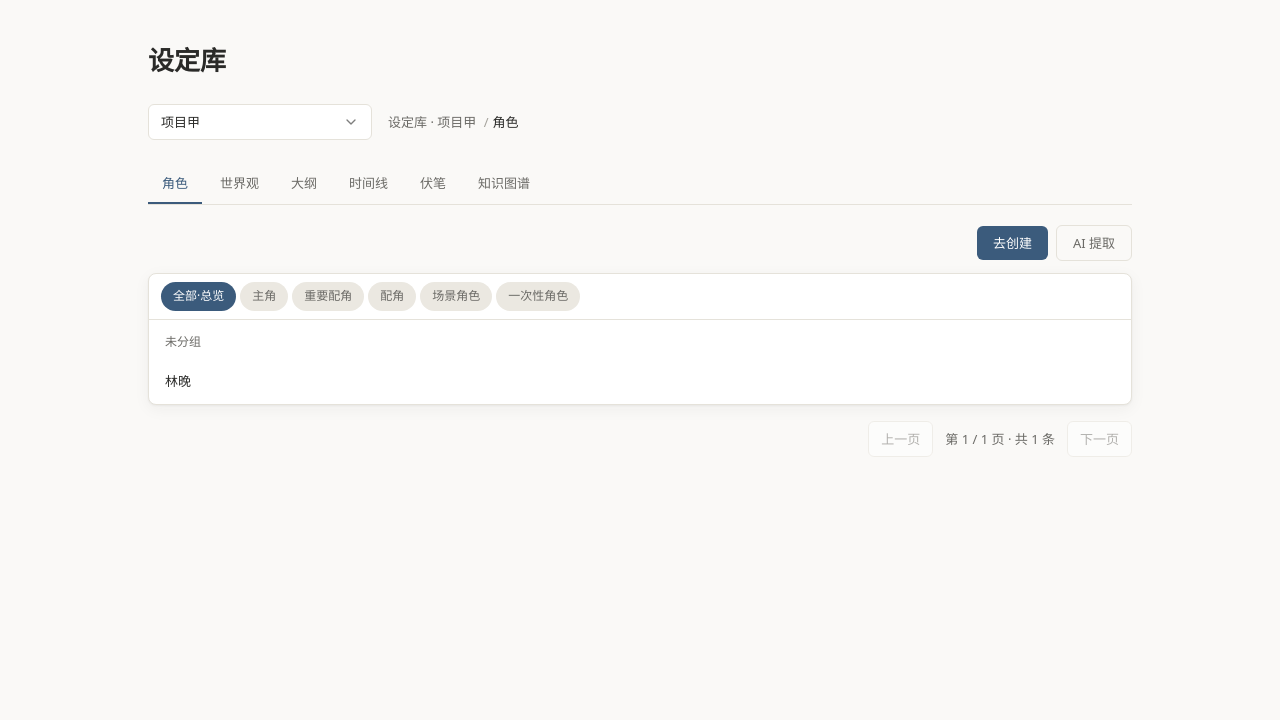
设定库页 — 「AI 提取」入口（#652） › 契约2：点击「AI 提取」→ 打开 AIExtractDialog（拉取章节列表）
Expected: the element with test id "library-list" is shown, [148,273,1132,405]
Click the button with test id "extract-entry-lib" at [1094, 243], box [1056,225,1132,261]
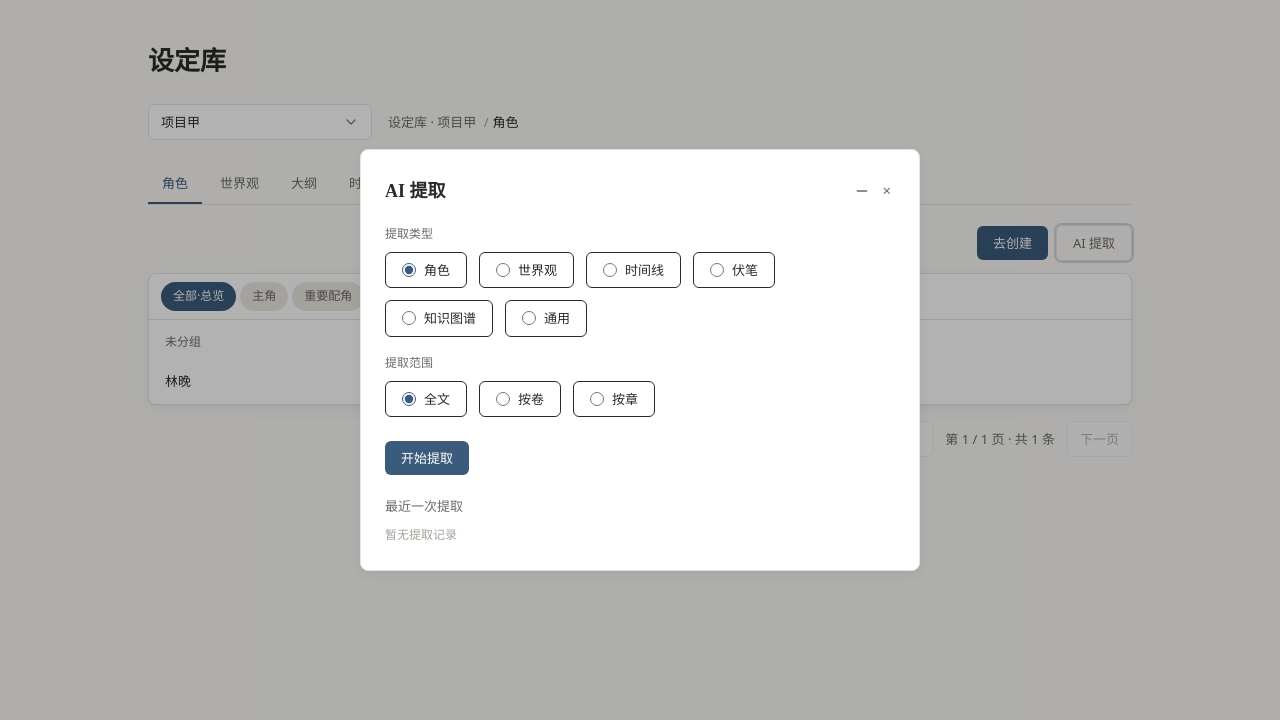
Now the heading "AI 提取" is shown, box [385,176,446,206]
Now the element with test id "ai-extract-type" is shown, box [385,252,775,336]
